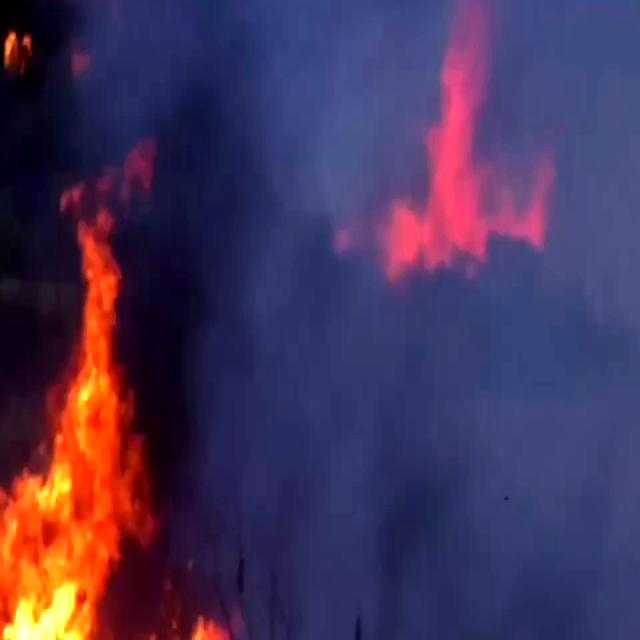fire: (0, 169, 175, 639)
smoke: (228, 0, 640, 403)
